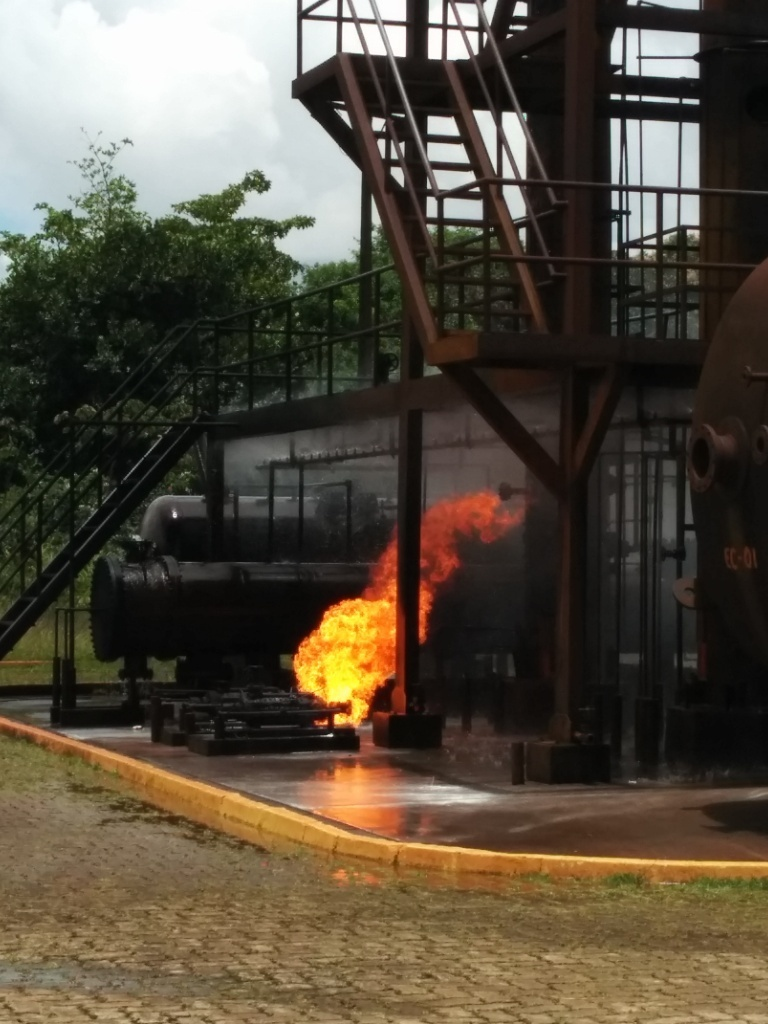fire: (286, 484, 521, 735)
